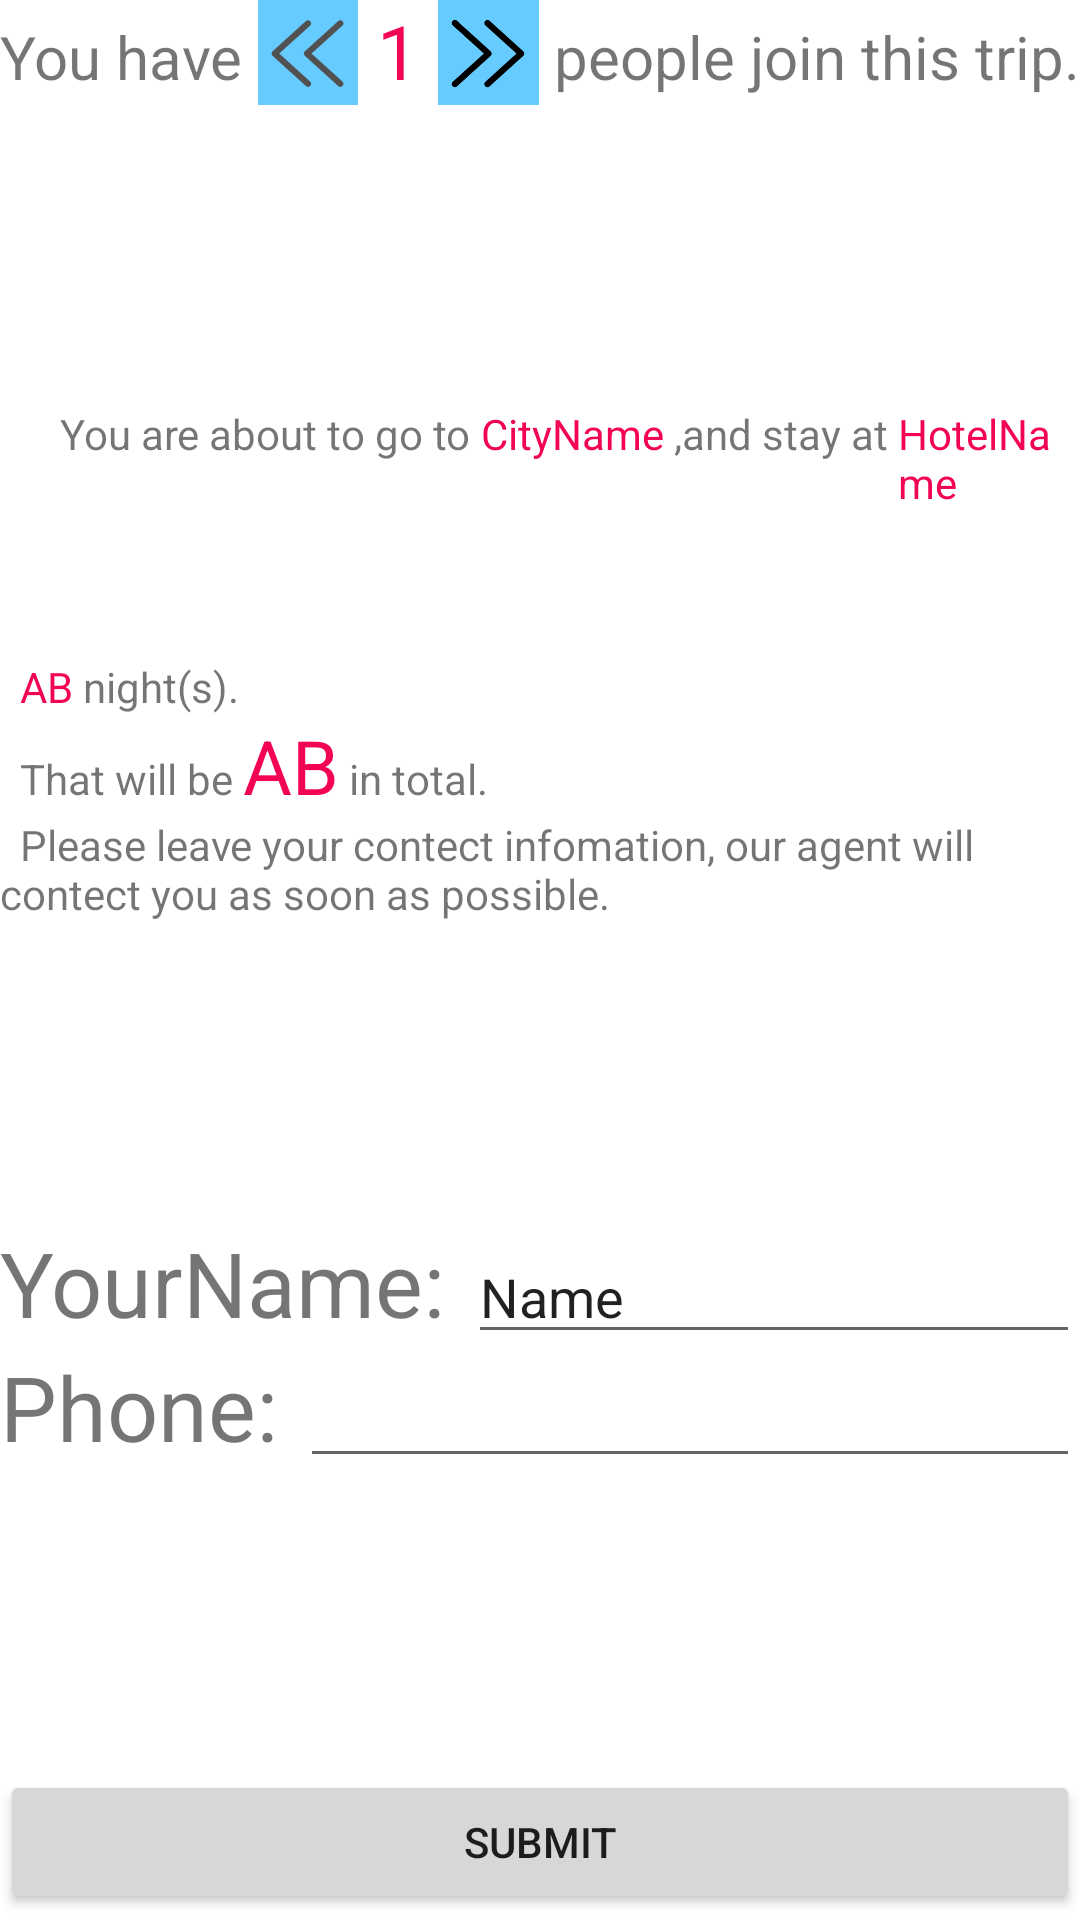

Named icons in this screenshot (1080px x 1920px) and their bounding boxes, (x1=x1, y1=y1, x2=x2, y2=y2):
arrow double left: (x1=258, y1=0, x2=358, y2=105)
arrow double right: (x1=438, y1=0, x2=539, y2=105)
